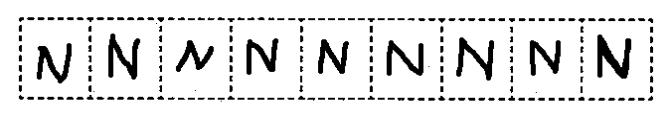N: (32, 35, 78, 90), (449, 34, 500, 82), (589, 30, 634, 82), (104, 30, 148, 82), (238, 33, 284, 81), (522, 35, 566, 81), (380, 35, 426, 78), (172, 38, 219, 77), (314, 33, 352, 75)
